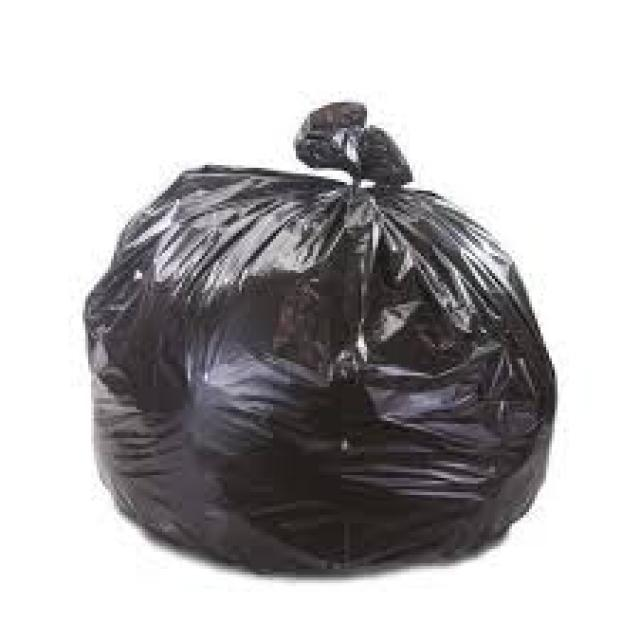plastic_bag: (86, 81, 556, 564)
